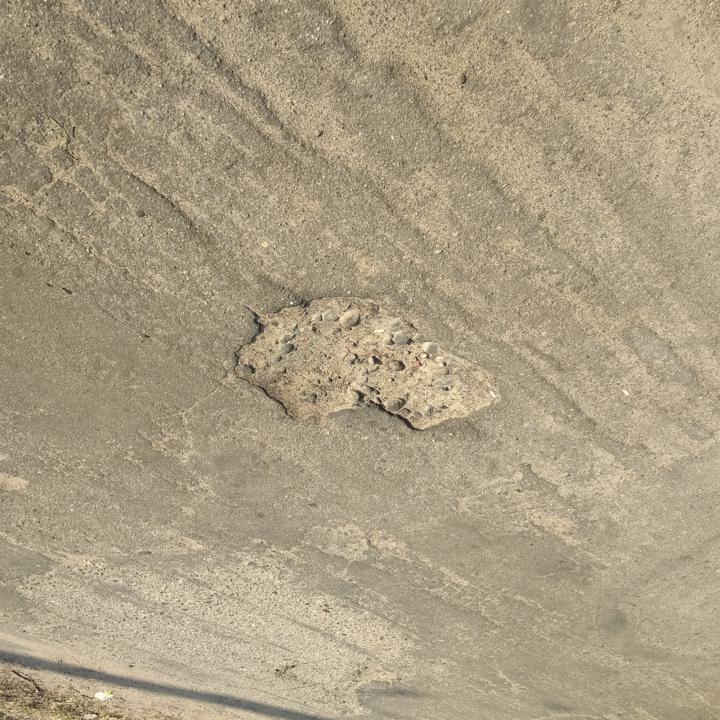pothole: (231, 295, 501, 434)
